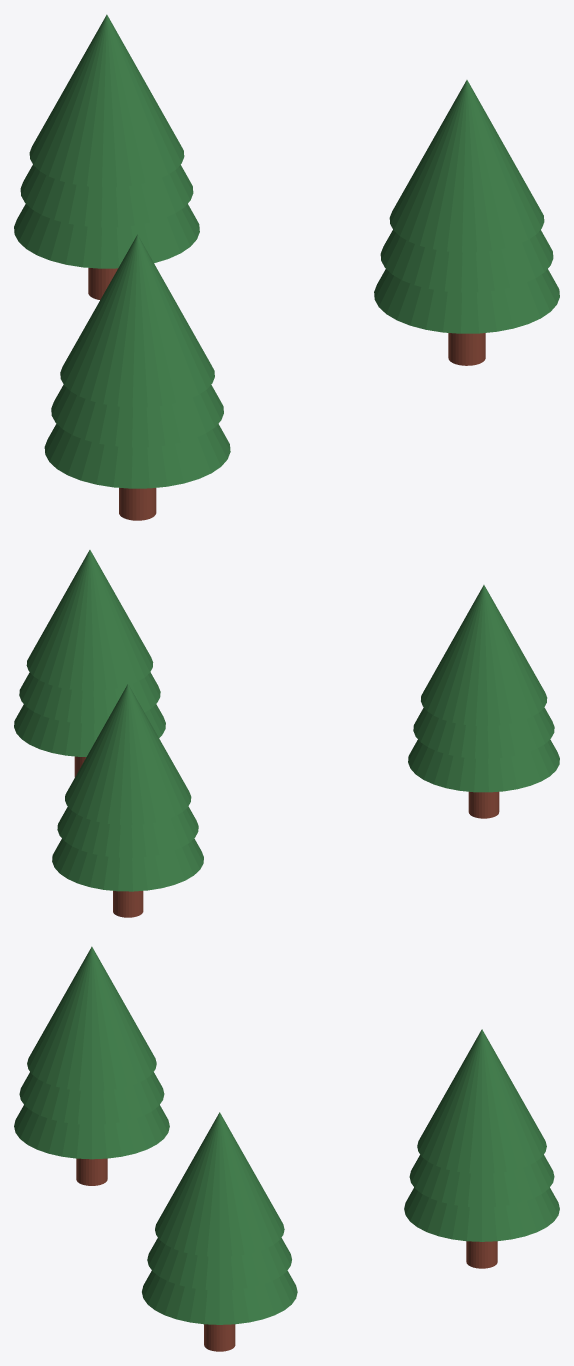
Rendered from forest.gltf.
The picture shows the model from 3 angles, top to bottom: view 1: azimuth 30°, elevation 25°; view 2: azimuth 150°, elevation 25°; view 3: azimuth 270°, elevation 25°; orthographic projection. The views are drawn at different scales.
Parts seen in each view (by area): view 1: Cone.002, Cone.003, Cone.008, Cone, Cone.005, Cone.006, Cone.001, Cone.004, Cone.007, Cylinder.001, Cylinder, Cylinder.002; view 2: Cone.003, Cone.008, Cone.002, Cone, Cone.006, Cone.001, Cone.007, Cone.004, Cone.005, Cylinder, Cylinder.002; view 3: Cone.003, Cone.002, Cone.008, Cone, Cone.005, Cone.006, Cone.007, Cone.004, Cone.001, Cylinder.002, Cylinder.001, Cylinder.
Part boxes in pixels (bbox=[...]): Cone.002: bbox=[60, 234, 214, 407]; Cone.003: bbox=[389, 80, 544, 252]; Cone.008: bbox=[29, 14, 184, 187]; Cone: bbox=[44, 424, 230, 488]; Cone.005: bbox=[374, 269, 559, 333]; Cone.006: bbox=[14, 204, 199, 268]; Cone.001: bbox=[51, 384, 223, 447]; Cone.004: bbox=[380, 230, 553, 292]; Cone.007: bbox=[20, 164, 193, 227]; Cylinder.001: bbox=[448, 333, 485, 365]; Cylinder: bbox=[119, 488, 156, 520]; Cylinder.002: bbox=[88, 268, 117, 299]; Cone.003: bbox=[26, 550, 153, 690]; Cone.008: bbox=[65, 684, 191, 824]; Cone.002: bbox=[421, 585, 547, 725]; Cone: bbox=[408, 739, 559, 792]; Cone.006: bbox=[52, 838, 203, 891]; Cone.001: bbox=[413, 707, 554, 758]; Cone.007: bbox=[57, 806, 198, 857]; Cone.004: bbox=[19, 672, 160, 723]; Cone.005: bbox=[14, 704, 165, 756]; Cylinder: bbox=[468, 791, 499, 818]; Cylinder.002: bbox=[113, 891, 143, 917]; Cone.003: bbox=[155, 1112, 284, 1256]; Cone.002: bbox=[27, 946, 156, 1091]; Cone.008: bbox=[417, 1029, 546, 1173]; Cone: bbox=[14, 1105, 169, 1159]; Cone.005: bbox=[142, 1270, 297, 1324]; Cone.006: bbox=[404, 1187, 559, 1241]; Cone.007: bbox=[409, 1154, 554, 1207]; Cone.004: bbox=[147, 1238, 291, 1290]; Cone.001: bbox=[19, 1072, 164, 1124]; Cylinder.002: bbox=[466, 1241, 497, 1268]; Cylinder.001: bbox=[204, 1324, 235, 1351]; Cylinder: bbox=[76, 1158, 107, 1185].
Bounding box in the file's own units: 7.03 × 3.3 × 7.
